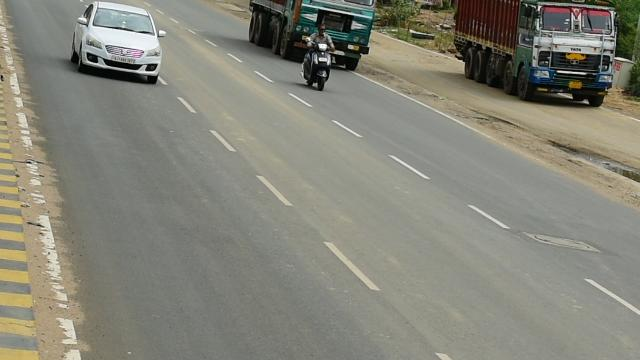Without Helmet: (315, 22, 327, 36)
